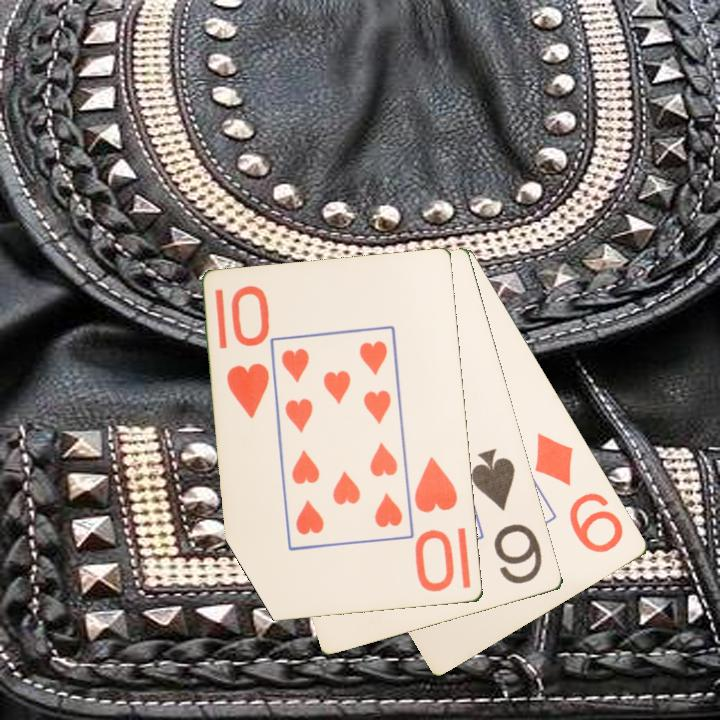10h: (411, 453, 461, 596), (224, 282, 273, 422)
6s: (468, 445, 546, 587)
9d: (531, 429, 627, 556)
